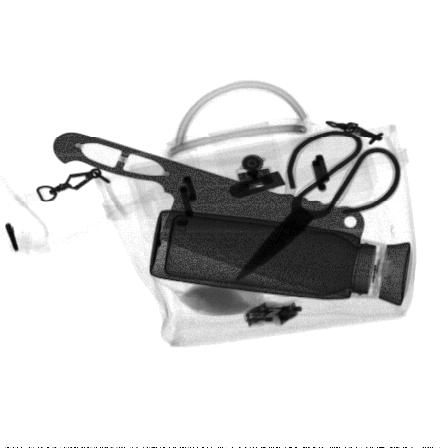Knife: (53, 133, 366, 299)
Scissors: (232, 130, 401, 282)
